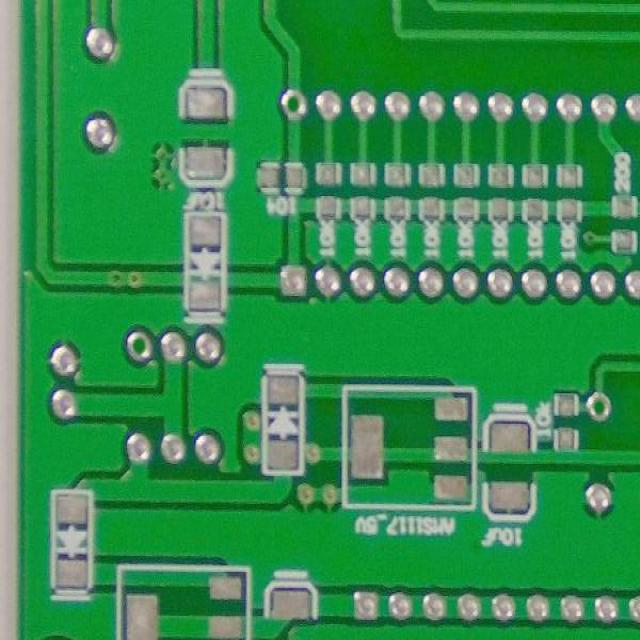missing hole: (276, 83, 314, 129), (124, 325, 158, 367), (584, 384, 616, 427)
